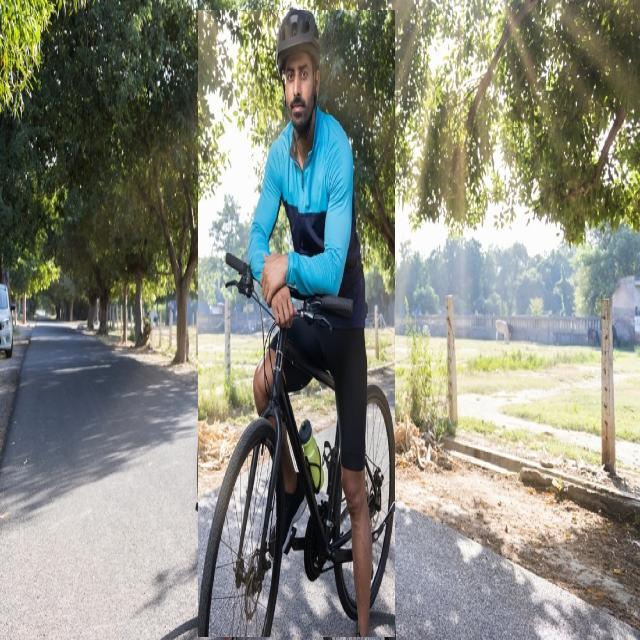bicycle: (198, 11, 395, 637)
